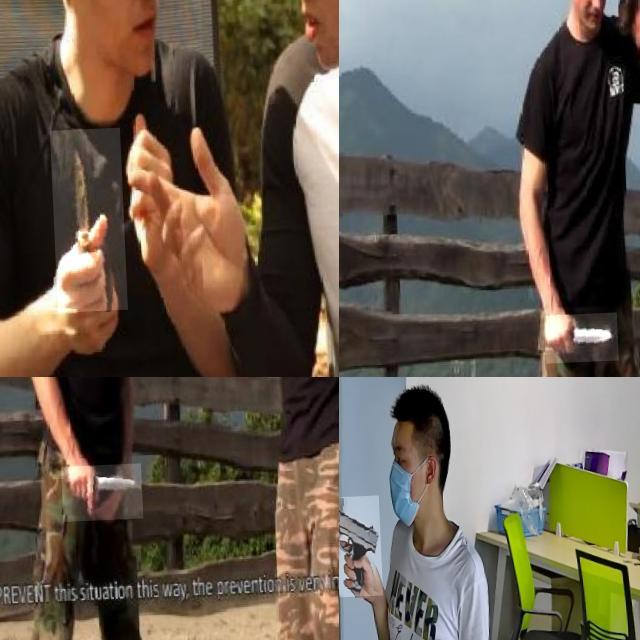-: (46, 129, 123, 314), (56, 466, 138, 524), (539, 315, 614, 366)
gun-knife-thesis - v11 Yolov5 augmented: (339, 498, 379, 600)
